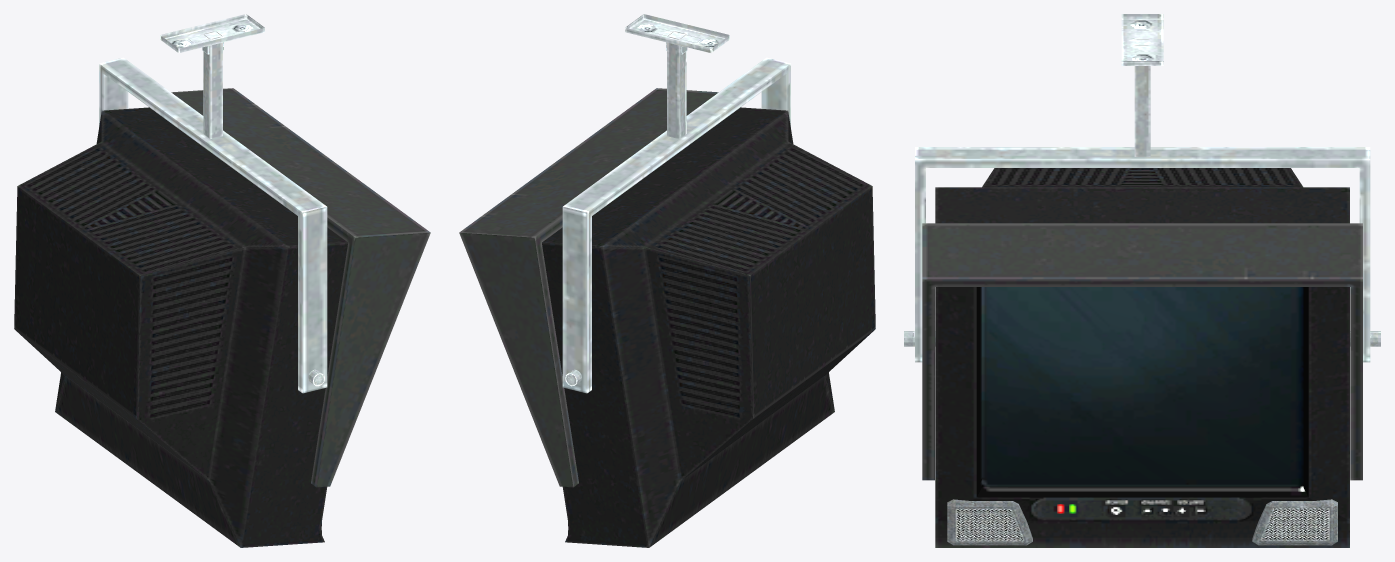
3 views of the same model, side by side, from view 1: azimuth 30°, elevation 25°; view 2: azimuth 150°, elevation 25°; view 3: azimuth 270°, elevation 25° (orthographic). The views are drawn at different scales.
Visible parts, largest first — view 1: Object_10_mesh0, Object_6_mesh0, Object_8_mesh0; view 2: Object_10_mesh0, Object_6_mesh0, Object_8_mesh0; view 3: Object_4_mesh0, Object_10_mesh0, Object_6_mesh0, Object_8_mesh0, Object_12_mesh0.
Boxes of the visible parts, bbox=[...] form: Object_10_mesh0: bbox=[14, 107, 347, 547]; Object_6_mesh0: bbox=[171, 88, 430, 487]; Object_8_mesh0: bbox=[99, 14, 327, 393]; Object_10_mesh0: bbox=[542, 107, 875, 547]; Object_6_mesh0: bbox=[459, 88, 718, 487]; Object_8_mesh0: bbox=[562, 14, 790, 393]; Object_4_mesh0: bbox=[982, 287, 1302, 486]; Object_10_mesh0: bbox=[935, 168, 1349, 547]; Object_6_mesh0: bbox=[922, 223, 1362, 480]; Object_8_mesh0: bbox=[904, 14, 1380, 362]; Object_12_mesh0: bbox=[947, 499, 1337, 545].
Size of the model in its own units: 395 by 658 by 569.
1 material, 1 textured.
